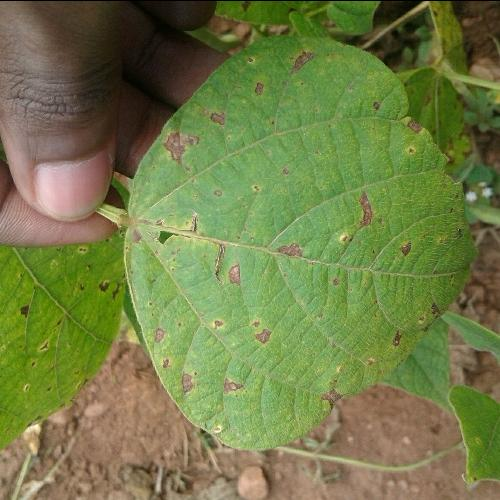hawar: (147, 66, 390, 260), (144, 290, 298, 411)
mozaik: (142, 194, 243, 284)
